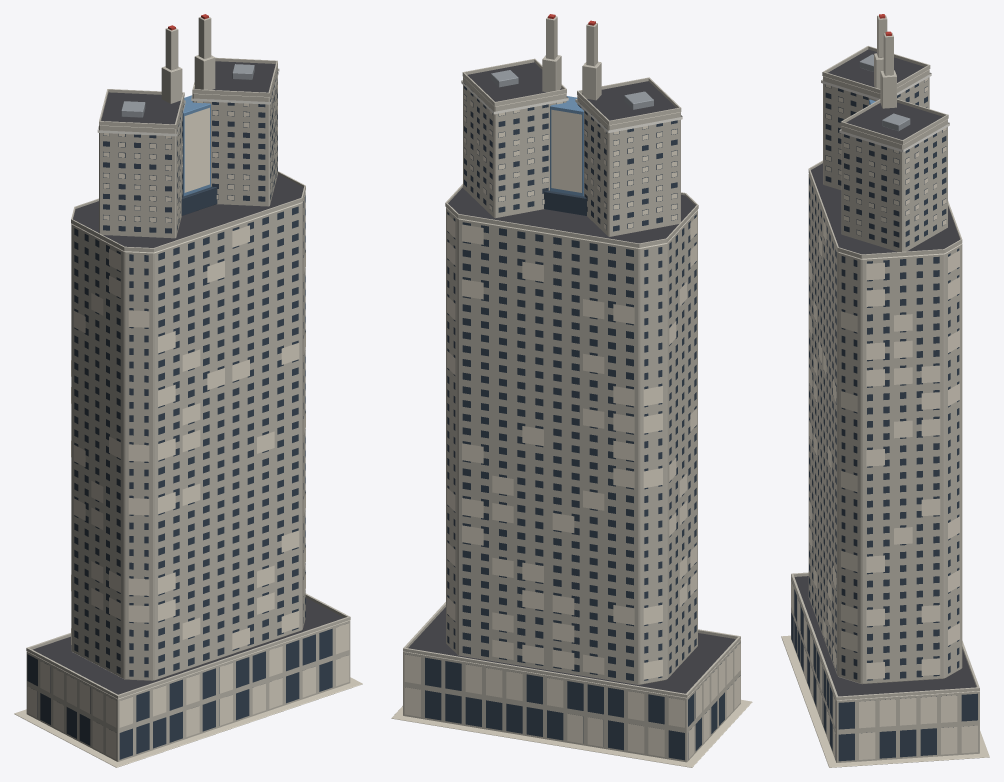
File: 345-california-street.glb
3 views of the same model, side by side, from view 1: azimuth 30°, elevation 25°; view 2: azimuth 150°, elevation 25°; view 3: azimuth 270°, elevation 25° (orthographic). The views are drawn at different scales.
Visible parts, largest first — view 1: 345-california-street_body, 345-california-street_night_glow; view 2: 345-california-street_body, 345-california-street_night_glow; view 3: 345-california-street_body, 345-california-street_night_glow.
Boxes of the visible parts, left/top/right/bottom form: 345-california-street_body: left=14, top=17, right=362, bottom=767; 345-california-street_night_glow: left=27, top=14, right=349, bottom=759; 345-california-street_body: left=391, top=16, right=752, bottom=767; 345-california-street_night_glow: left=404, top=14, right=740, bottom=759; 345-california-street_body: left=781, top=15, right=989, bottom=767; 345-california-street_night_glow: left=791, top=14, right=977, bottom=759.
Size of the model in its own units: 95.61 by 212 by 59.53.
